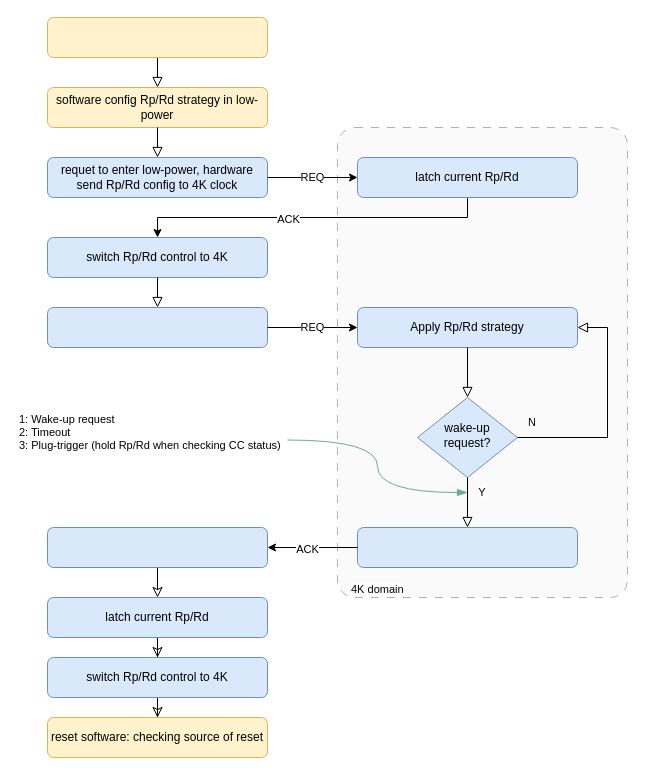
Some shapes in this 645 by 775 pixel diagram are drawn without their labels. The shapes that lost their labels are listed below. From the top down, each one's centre as x and y in pixels, then its label:
point 157,37: software requet to enter low-power
point 157,327: enter low-power
point 157,547: exit low-power
point 467,547: hold current Rp/Rd
